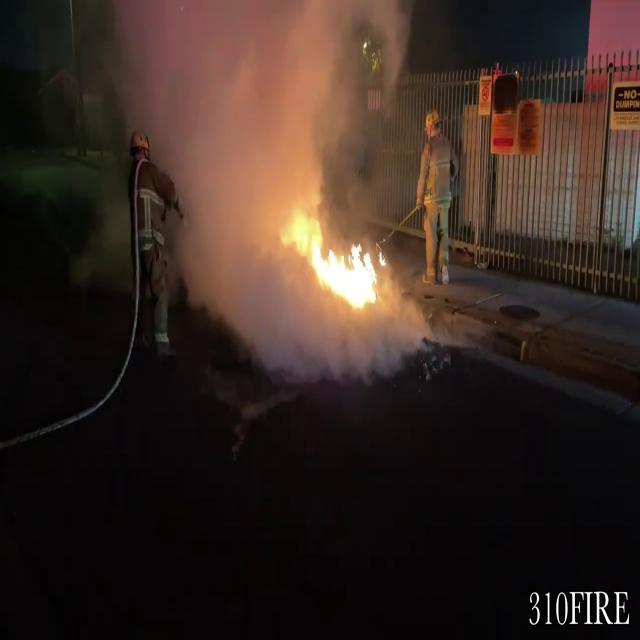Fire: (285, 194, 389, 314)
Smoke: (76, 0, 422, 258)
